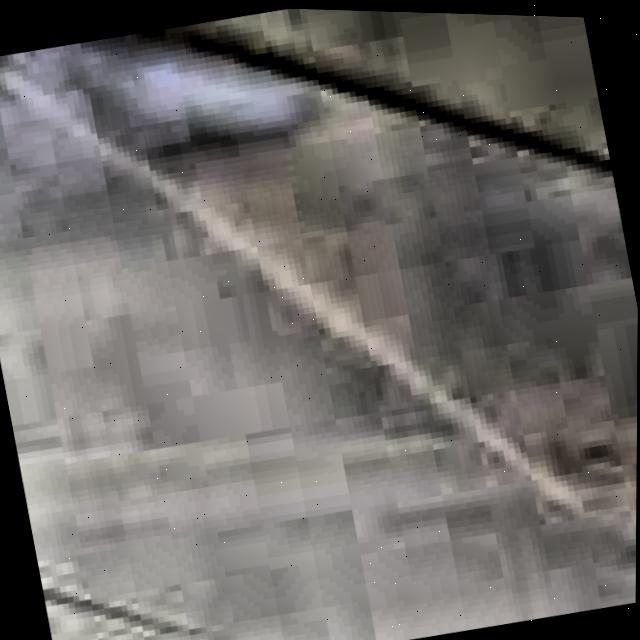paper: (0, 37, 638, 640)
